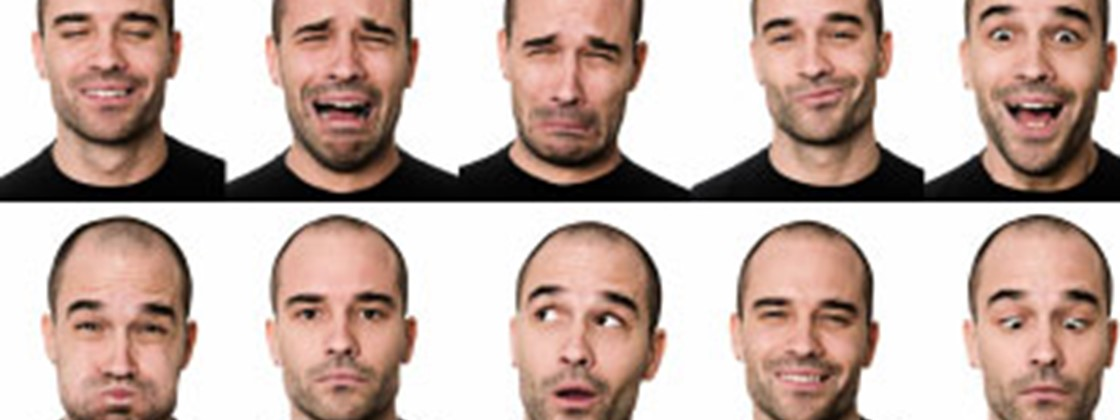without_mask: (957, 238, 1120, 420), (723, 238, 886, 420), (504, 238, 667, 420), (258, 238, 421, 420), (36, 238, 199, 420), (955, 1, 1118, 181), (262, 1, 423, 177), (493, 1, 654, 177), (740, 1, 901, 150), (28, 1, 184, 147)
